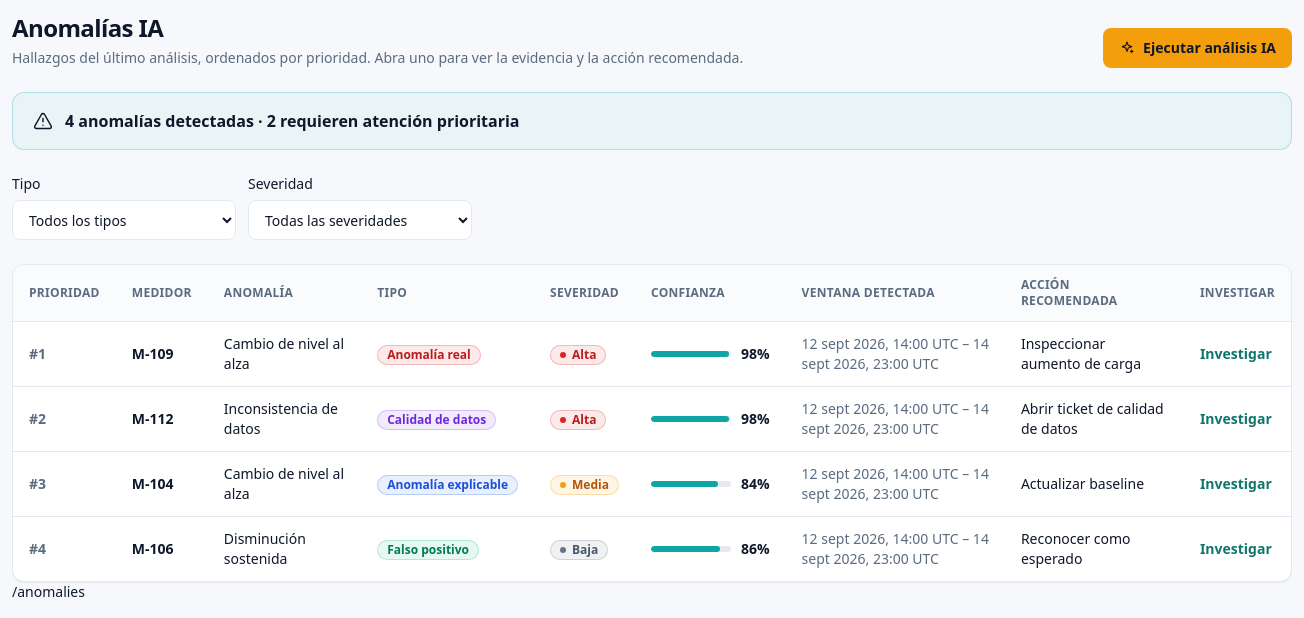
Test: AnomaliesPage › filters through the URL and refetches
Expected: the table is shown, x1=13 y1=265 x2=1291 y2=581
Select "Calidad de datos" in the dropdown labelled "Tipo" at (124,220), box x1=12 y1=200 x2=236 y2=240
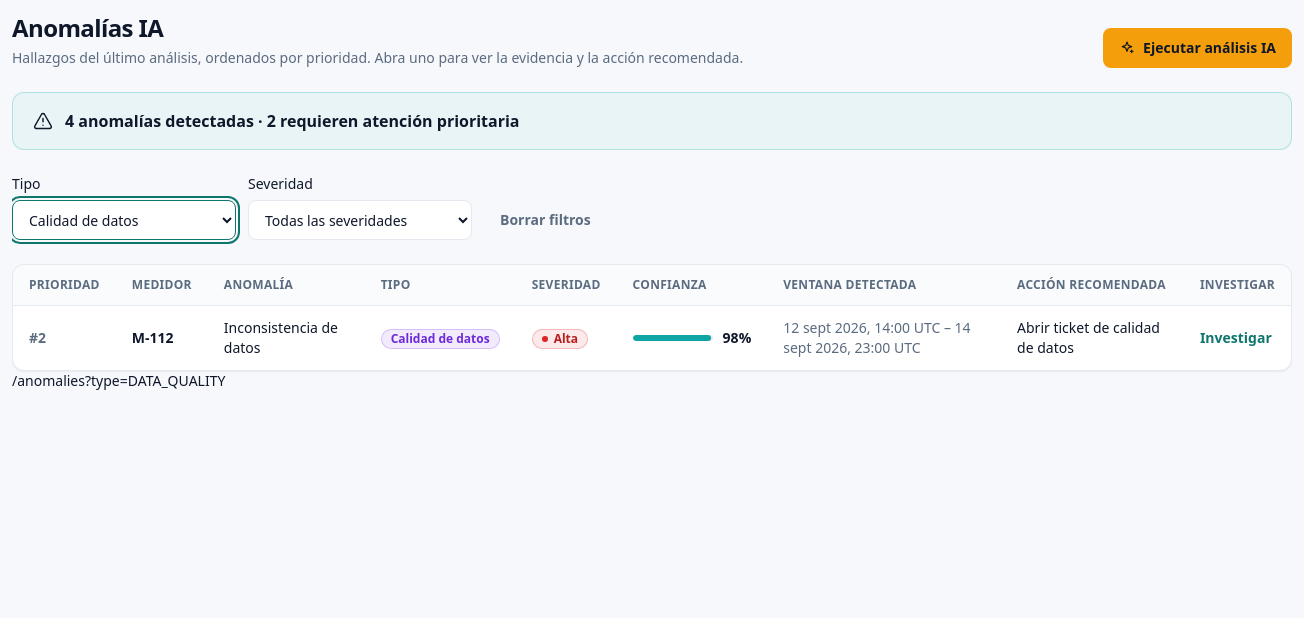
Expected: the column heading "M-112" is shown, x1=116 y1=306 x2=208 y2=370
Expected: the text named "location" reads "/anomalies?type=DATA_QUALITY", x1=12 y1=371 x2=225 y2=390
Select "Baja" in the dropdown labelled "Severidad" at (360,220), box x1=248 y1=200 x2=472 y2=240
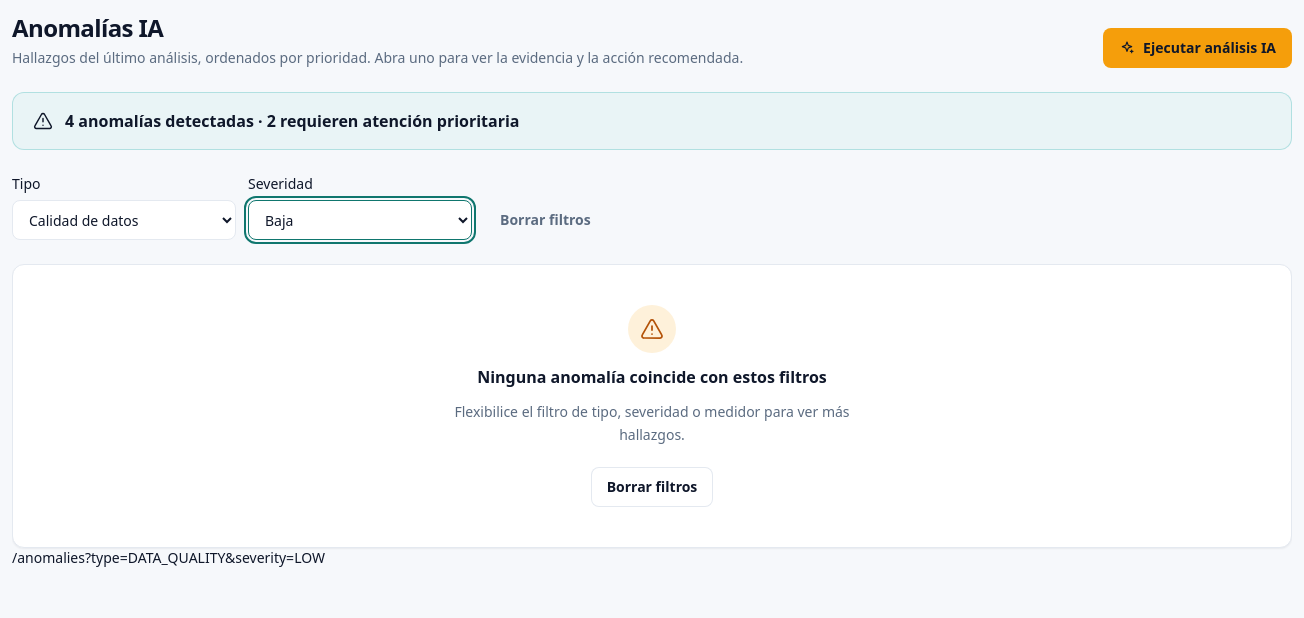
Expected: the heading "Ninguna anomalía coincide con estos filtros" is shown, x1=477 y1=365 x2=827 y2=389
Expected: the text named "location" reads "/anomalies?type=DATA_QUALITY&severity=LOW", x1=12 y1=548 x2=325 y2=566
Click the 1st button "Borrar filtros" at (545,220), box x1=484 y1=200 x2=607 y2=240
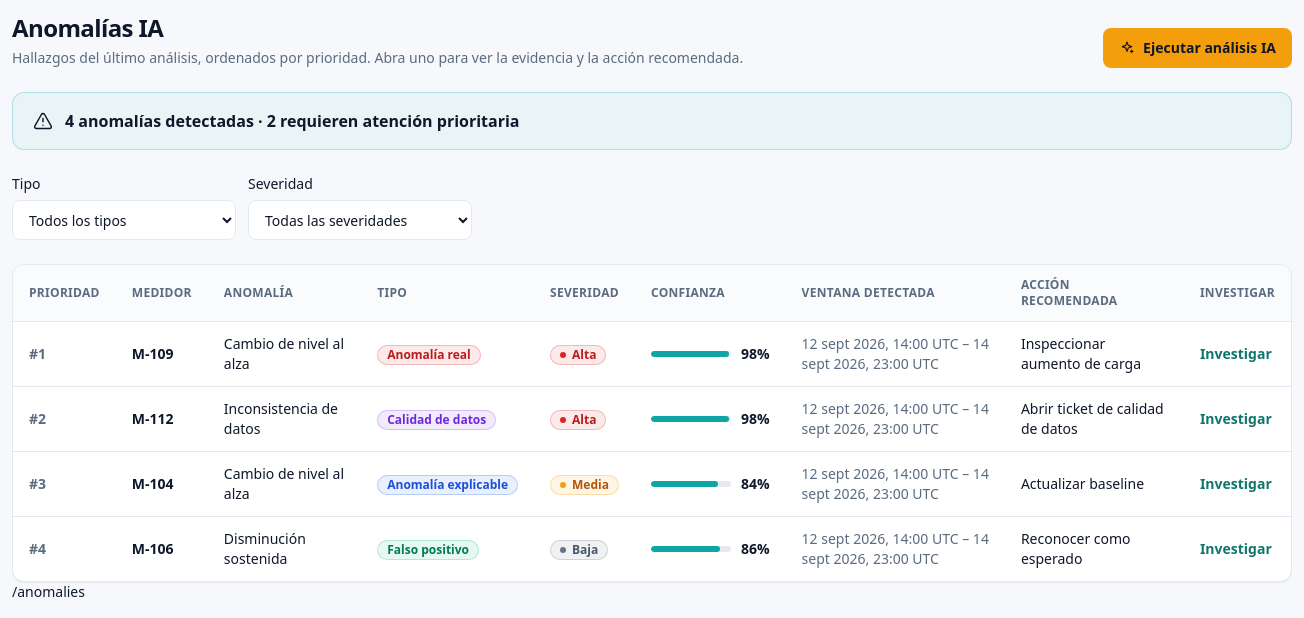
Expected: the text named "location" reads "/anomalies", x1=12 y1=582 x2=85 y2=601
